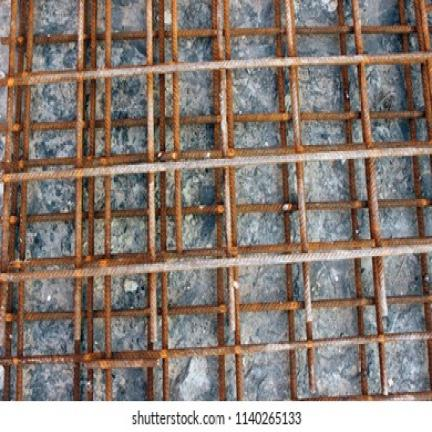karat: (18, 0, 35, 404), (102, 274, 171, 367)
